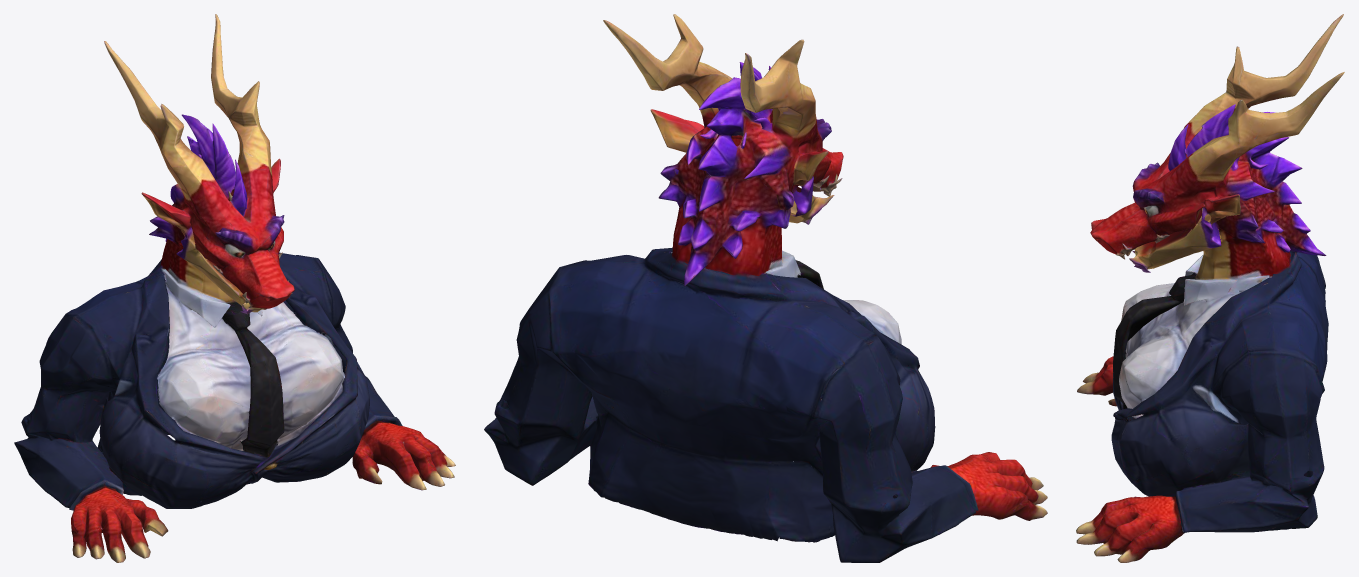
The model's file is bob.glb.
3 renders of one model, left to right at view 1: azimuth 30°, elevation 25°; view 2: azimuth 150°, elevation 25°; view 3: azimuth 270°, elevation 25°, orthographic. The views are drawn at different scales.
Size of the model in its own units: 0.8323 by 0.8615 by 0.4917.
Materials: 1 (1 with a texture image).
